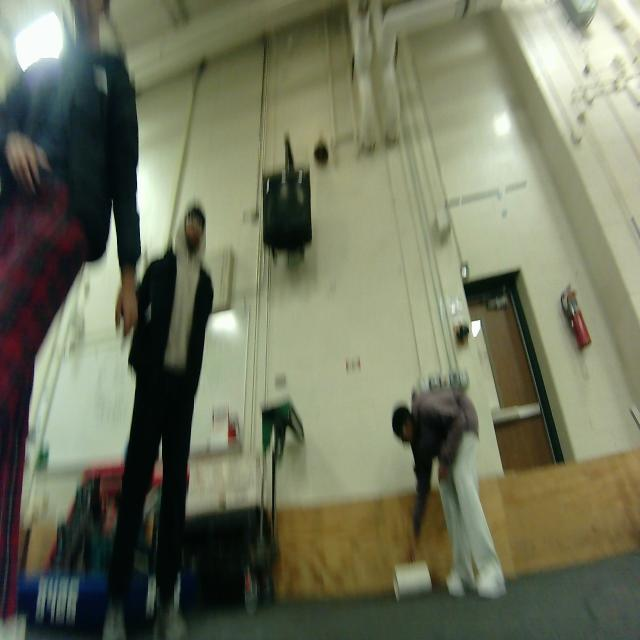coral: (390, 554, 438, 606)
